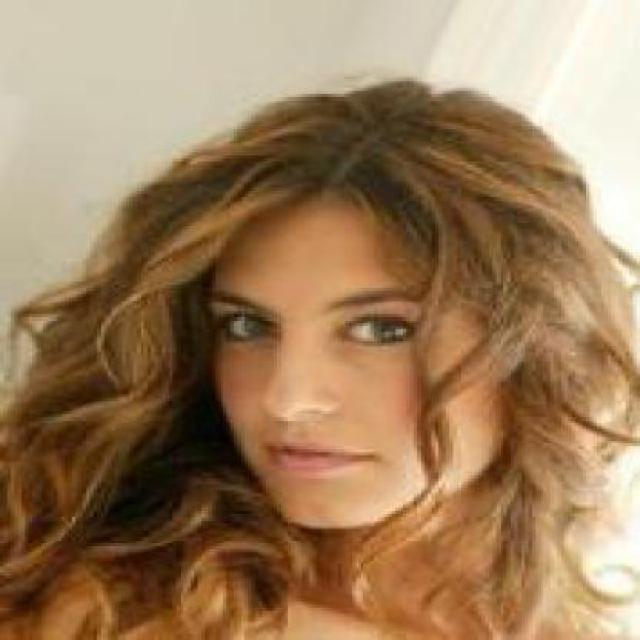closed-mouth: (263, 438, 385, 477)
